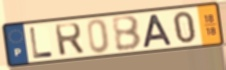0: (86, 18, 112, 55), (172, 10, 198, 45)
A: (142, 13, 175, 50)
B: (110, 14, 144, 53)
L: (28, 26, 54, 60)
R: (53, 21, 87, 57)
